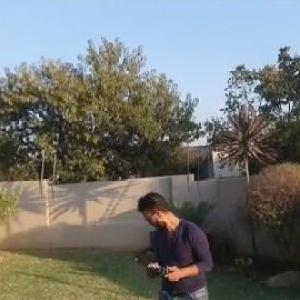follow: (134, 187, 216, 299)
